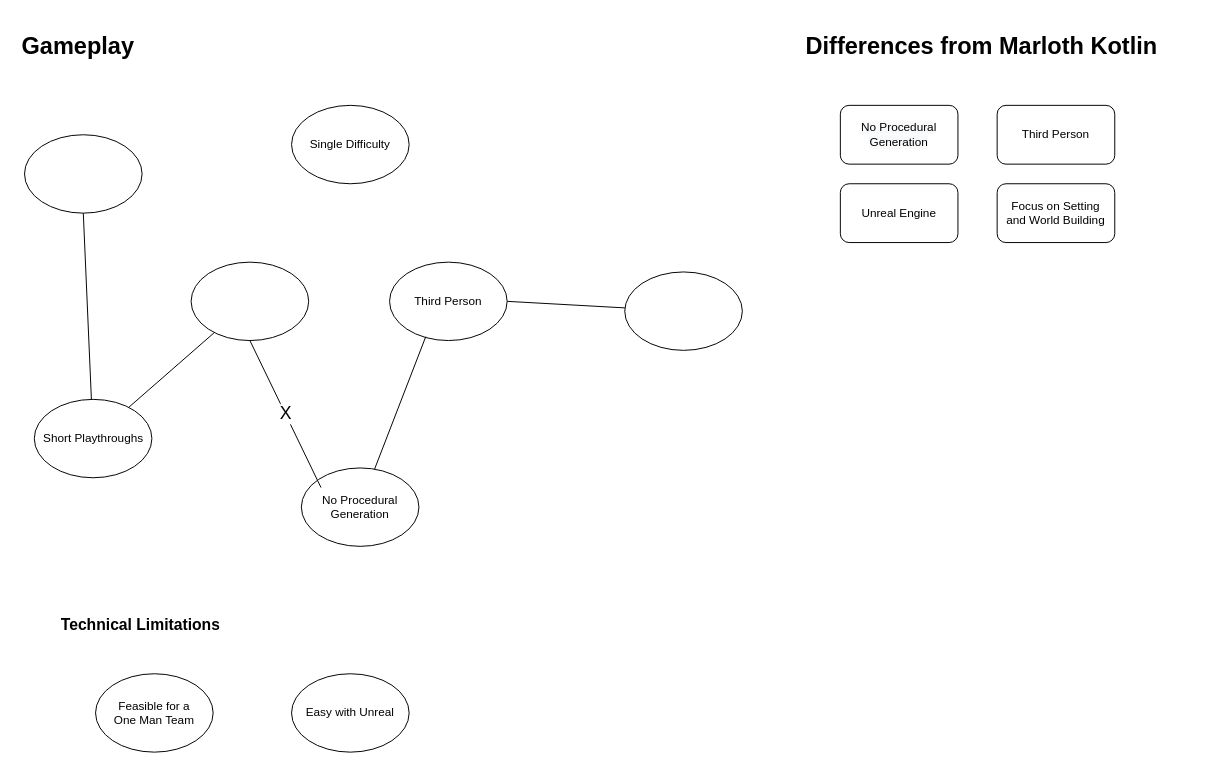
The diagram is 1209 pixels wide and 769 high, and some of its shapes have lost their labels. The centre of each missing label's shape, as x and y in pixels:
"RPG" belongs at (683,310).
"Single Map" belongs at (83,173).
"Unique Playthroughs" belongs at (249,301).
